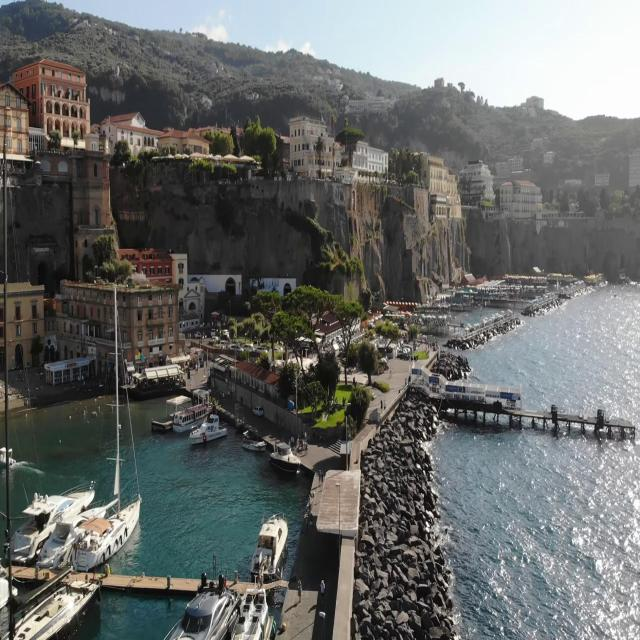boat: (15, 481, 94, 559), (41, 498, 106, 565), (248, 509, 290, 583), (188, 411, 228, 447), (172, 398, 214, 432), (274, 434, 304, 478), (0, 442, 21, 468), (243, 434, 267, 452)
sailboat: (72, 284, 142, 572)
